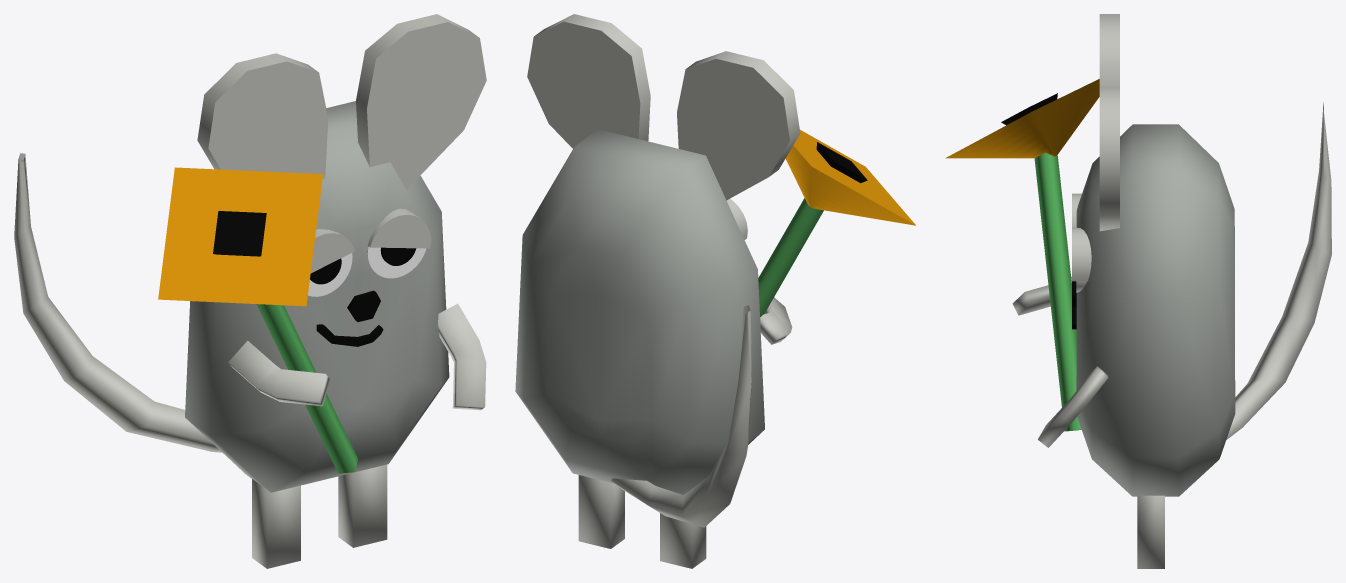
Rendered from tree.glb.
3 views of the same model, side by side, from view 1: azimuth 30°, elevation 25°; view 2: azimuth 150°, elevation 25°; view 3: azimuth 270°, elevation 25° (orthographic). The views are drawn at different scales.
Parts seen in each view (by area): view 1: body, ear_1, flower_1, tail_1, foot_1, eye_1, arn, arm, nose_1, mouse_1; view 2: body, ear_1, flower_1, tail_1, foot_1, arm; view 3: body, flower_1, tail_1, ear_1, foot_1, arn, eye_1, arm.
Part boxes in pixels (x1,y1,x2,y2): body: [185, 101, 449, 492]; ear_1: [197, 14, 486, 189]; flower_1: [158, 167, 357, 473]; tail_1: [14, 153, 221, 452]; foot_1: [252, 464, 387, 568]; eye_1: [308, 208, 430, 296]; arn: [438, 303, 486, 410]; arm: [228, 340, 329, 406]; nose_1: [347, 290, 380, 321]; mouse_1: [316, 324, 383, 346]; body: [515, 129, 764, 494]; ear_1: [527, 14, 800, 200]; flower_1: [758, 130, 915, 317]; tail_1: [611, 305, 751, 527]; foot_1: [578, 475, 706, 568]; arm: [760, 297, 792, 344]; body: [1076, 124, 1235, 496]; flower_1: [945, 79, 1099, 431]; tail_1: [1226, 102, 1331, 439]; ear_1: [1099, 14, 1119, 231]; foot_1: [1137, 495, 1164, 568]; arn: [1038, 366, 1108, 447]; eye_1: [1072, 193, 1091, 292]; arm: [1012, 276, 1071, 315].
Bounding box in the file's own units: 3.65 × 4.99 × 3.63.
